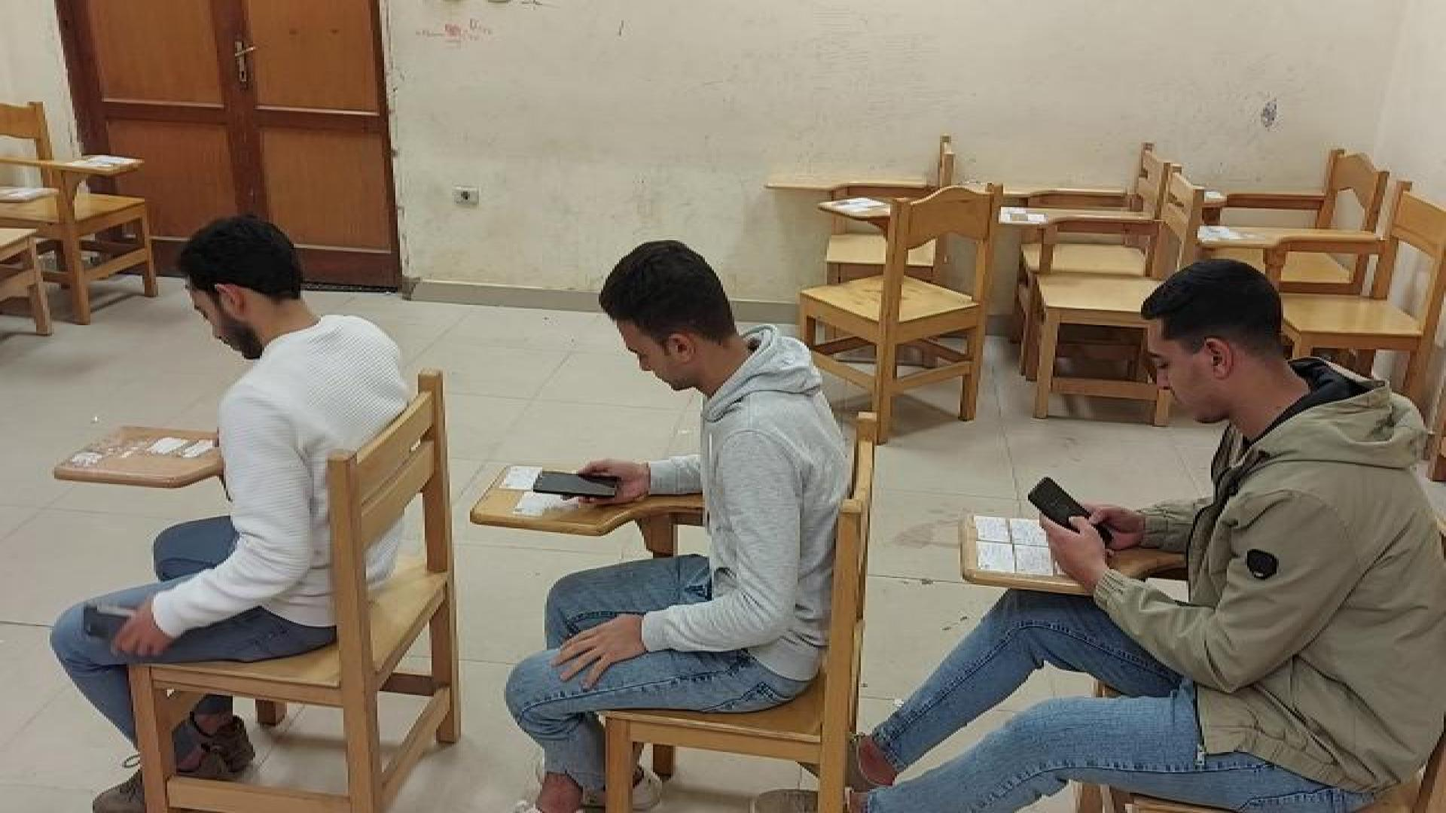phone: (1028, 475, 1125, 560), (77, 600, 156, 652), (526, 459, 628, 498)
